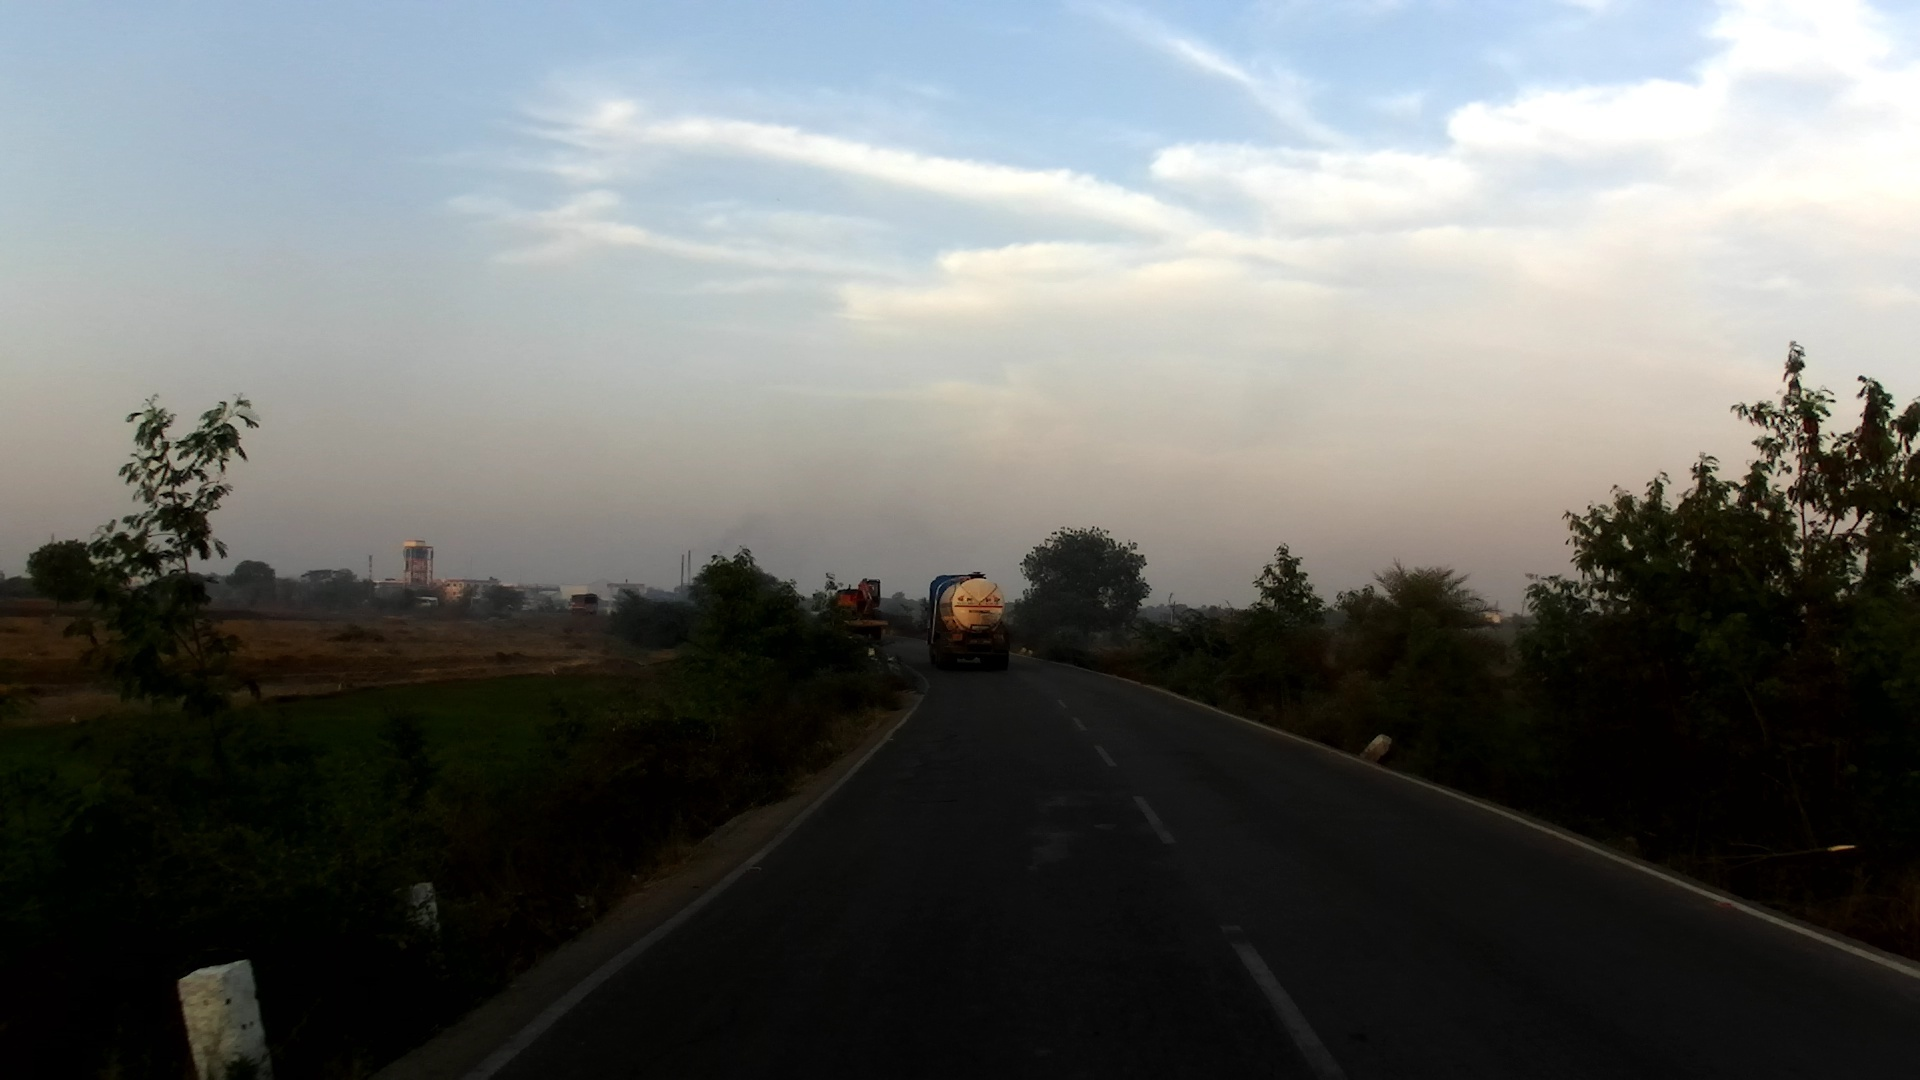truck: (920, 572, 1011, 676), (828, 572, 887, 663)
